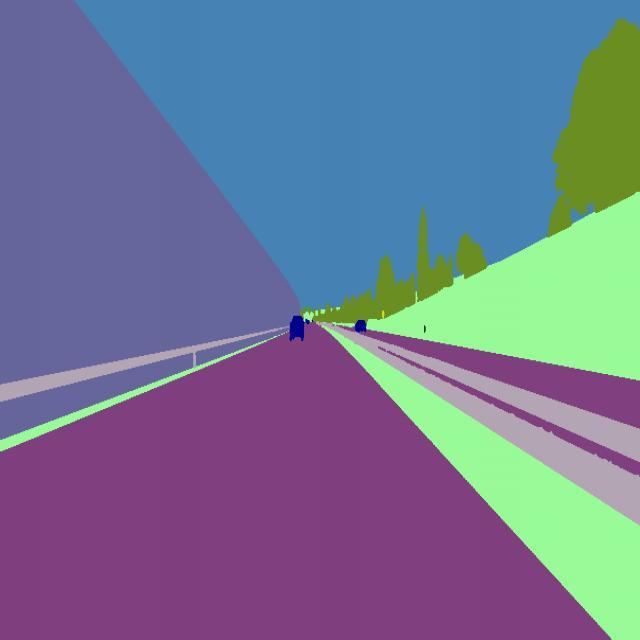safe: (288, 312, 307, 342), (350, 315, 370, 334)
